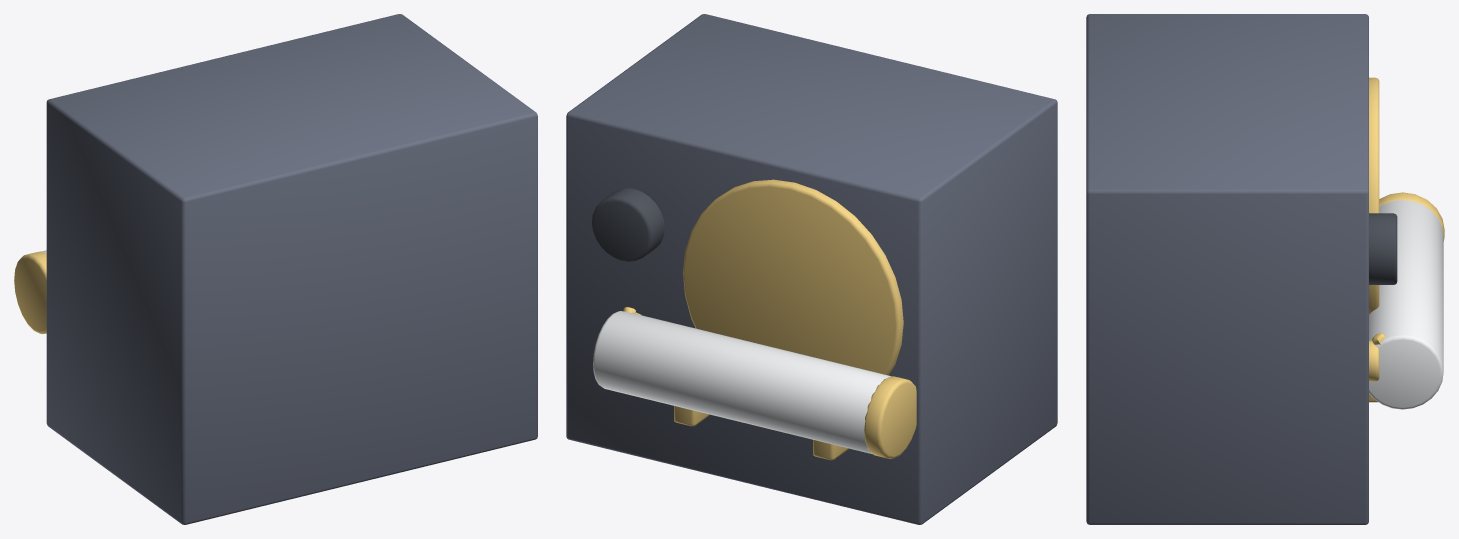
The model's file is geiger_counter.glb.
3 views of the same model, side by side, from view 1: azimuth 30°, elevation 25°; view 2: azimuth 150°, elevation 25°; view 3: azimuth 270°, elevation 25° (orthographic). The views are drawn at different scales.
Visible parts, largest first — view 1: Geiger_Counter_1935; view 2: Geiger_Counter_1935; view 3: Geiger_Counter_1935.
Boxes of the visible parts, x1,y1,x2,y2 form: Geiger_Counter_1935: [14, 14, 537, 524]; Geiger_Counter_1935: [566, 14, 1057, 524]; Geiger_Counter_1935: [1086, 14, 1444, 524].
Bounding box in the file's own units: 0.82 × 0.72 × 0.697.
